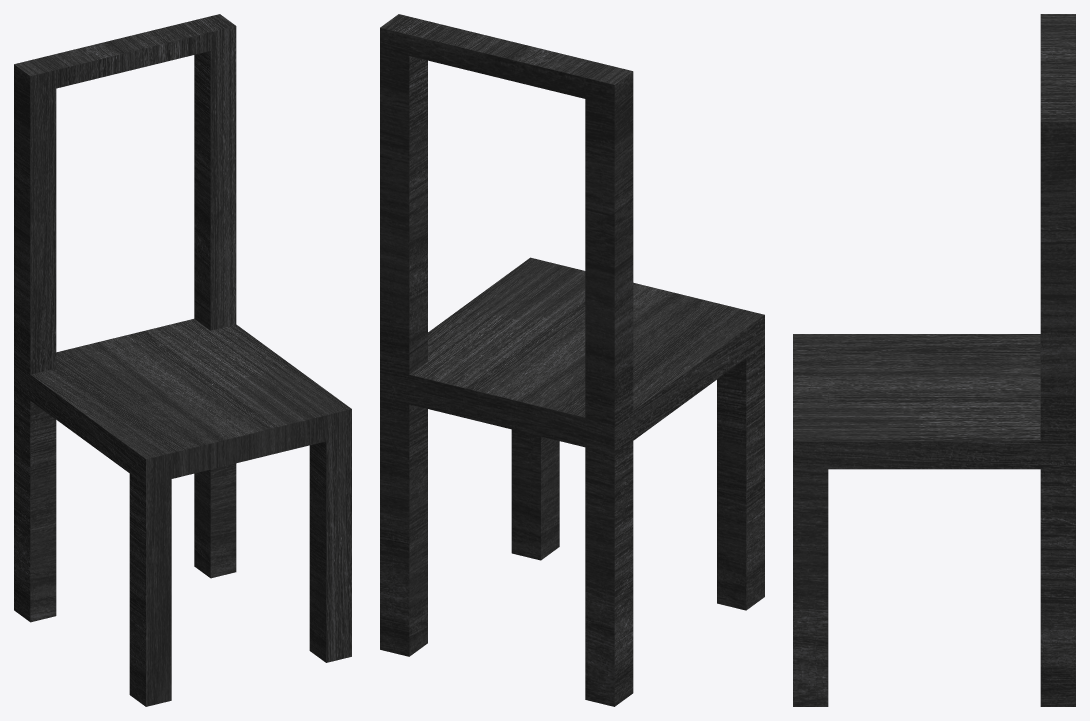
The model's file is chair.fbx.
3 renders of one model, left to right at view 1: azimuth 30°, elevation 25°; view 2: azimuth 150°, elevation 25°; view 3: azimuth 270°, elevation 25°, orthographic. The views are drawn at different scales.
Visible parts, largest first — view 1: стул; view 2: стул; view 3: стул.
Part boxes in pixels (x1,y1,x2,y2): стул: (14, 14, 351, 706); стул: (380, 14, 764, 706); стул: (793, 14, 1075, 706).
Size of the model in its own units: 31.31 by 79.34 by 34.76.
